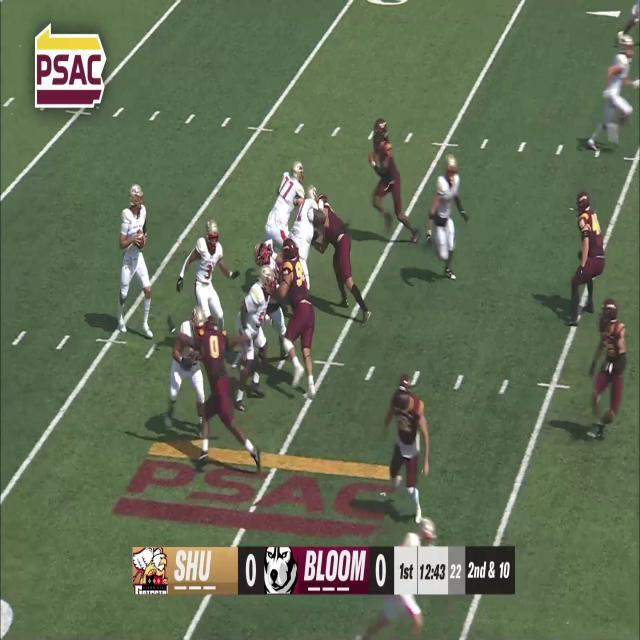football: (136, 228, 146, 252)
